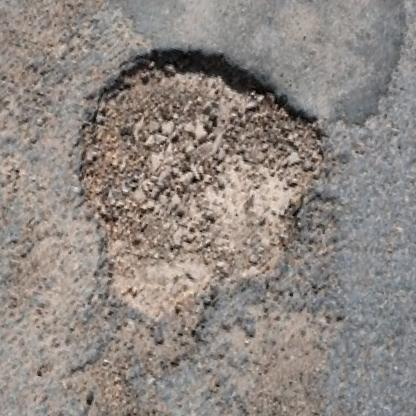pothole: (33, 19, 344, 356)
